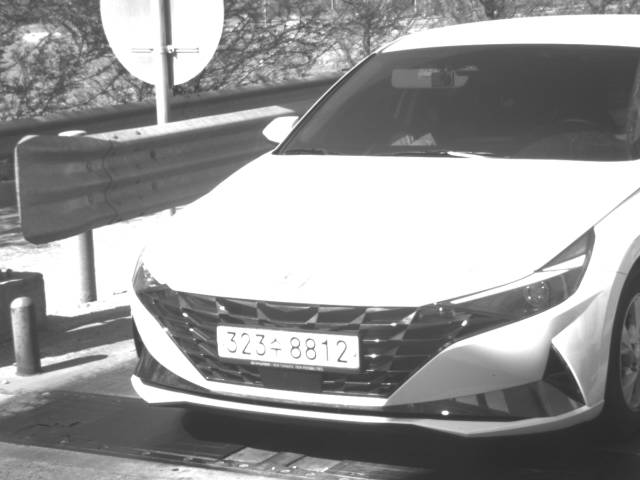car: (127, 12, 639, 449)
plate: (215, 323, 363, 372)
